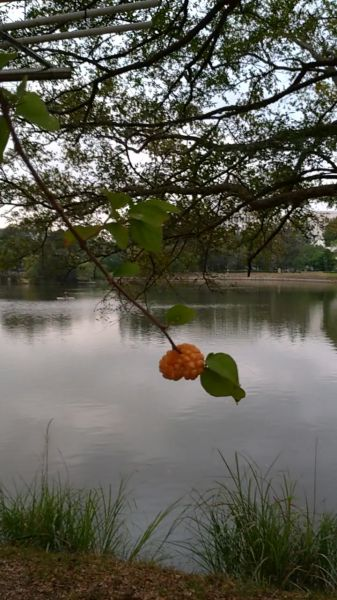eggs: (153, 340, 210, 385)
